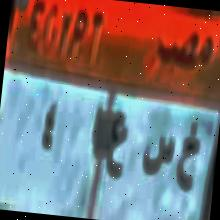4: (37, 98, 60, 155)
ain: (102, 105, 132, 184)
khaa: (172, 115, 202, 198)
seen: (139, 124, 177, 181)
